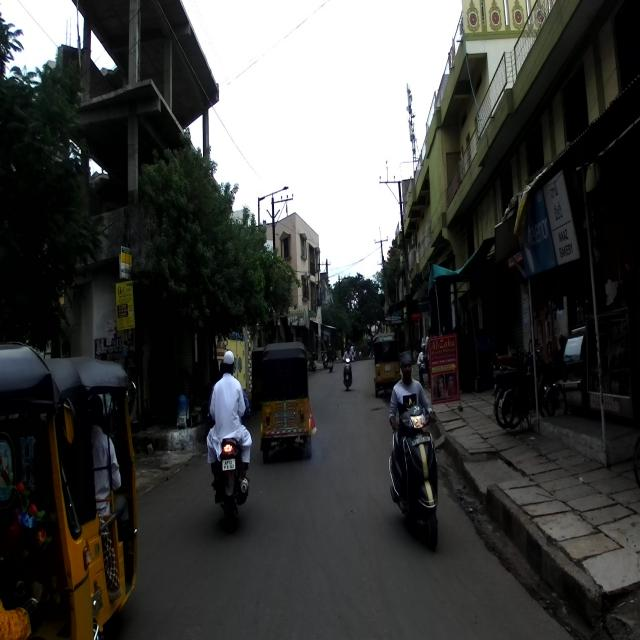autorickshaw: (0, 342, 100, 639), (258, 337, 316, 459)
motorcycle: (499, 351, 567, 432), (209, 412, 252, 534)
scooter: (387, 404, 439, 551)
